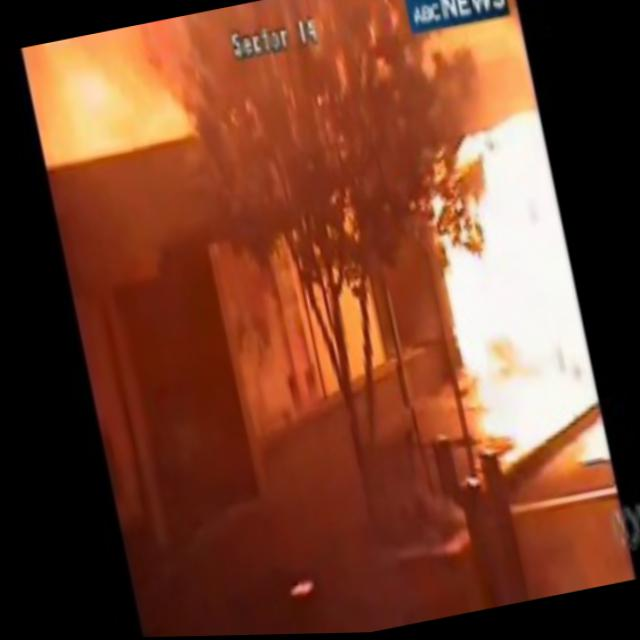fire: (419, 108, 605, 445), (38, 61, 147, 174)
